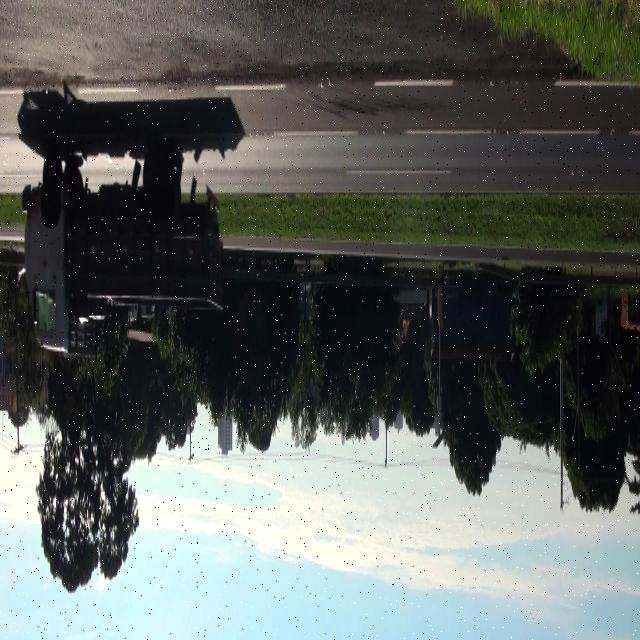-axle: (139, 146, 173, 217), (38, 150, 62, 227)
